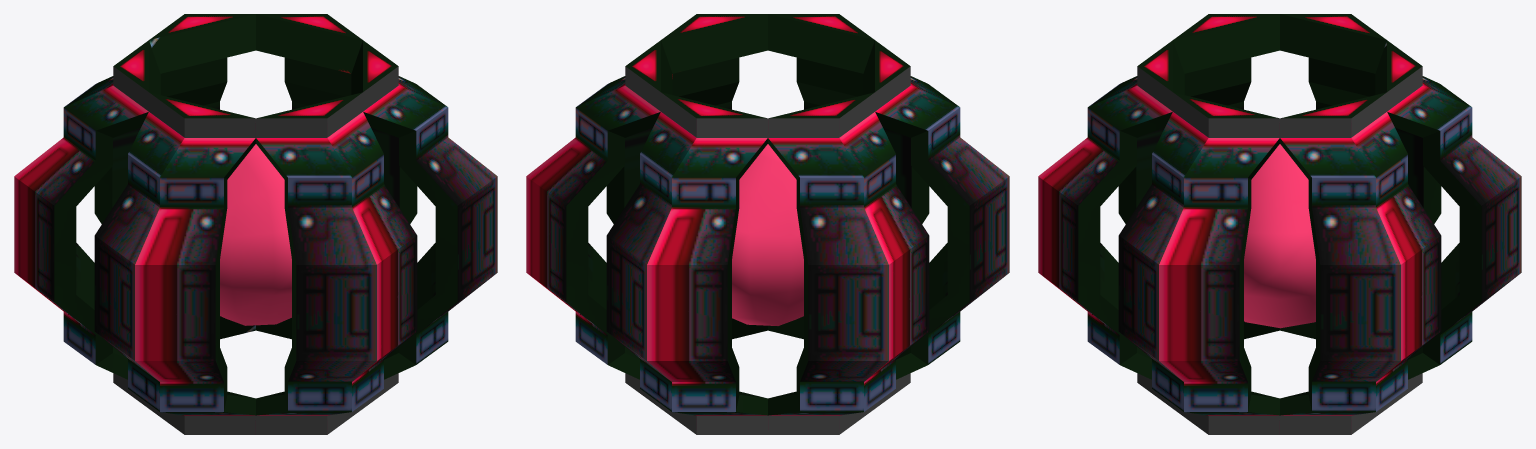
Rendered from energy_ball.fbx.
3 views of the same model, side by side, from view 1: azimuth 30°, elevation 25°; view 2: azimuth 150°, elevation 25°; view 3: azimuth 270°, elevation 25° (orthographic).
Parts seen in each view (by area): view 1: EnergyPack02; view 2: EnergyPack02; view 3: EnergyPack02.
Part boxes in pixels (x1,y1,x2,y2): EnergyPack02: (14,14,497,434); EnergyPack02: (526,14,1009,434); EnergyPack02: (1038,14,1521,434).
Size of the model in its own units: 205 by 171 by 237.
